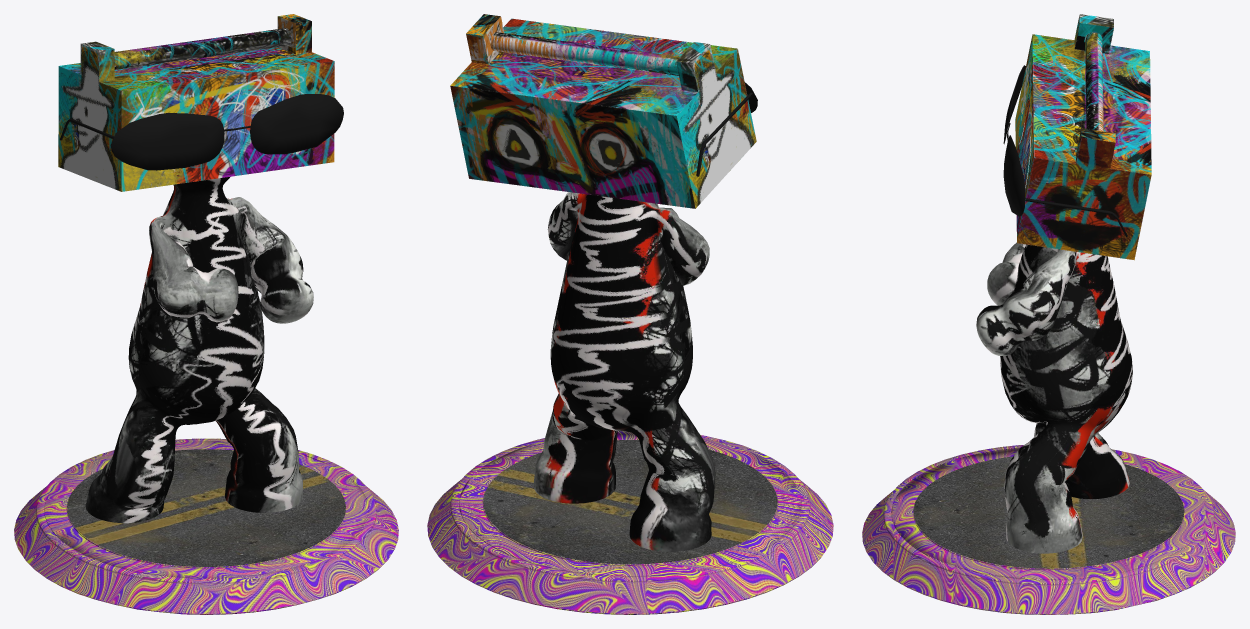
3 renders of one model, left to right at view 1: azimuth 30°, elevation 25°; view 2: azimuth 150°, elevation 25°; view 3: azimuth 270°, elevation 25°, orthographic. The views are drawn at different scales.
Visible parts, largest first — view 1: BBody; view 2: BBody; view 3: BBody.
Boxes of the visible parts, x1,y1,x2,y2 form: BBody: (14, 14, 398, 614); BBody: (427, 14, 833, 614); BBody: (862, 14, 1235, 614).
Size of the model in its own units: 1.45 by 2.05 by 1.45.
5 materials, 4 textured.
